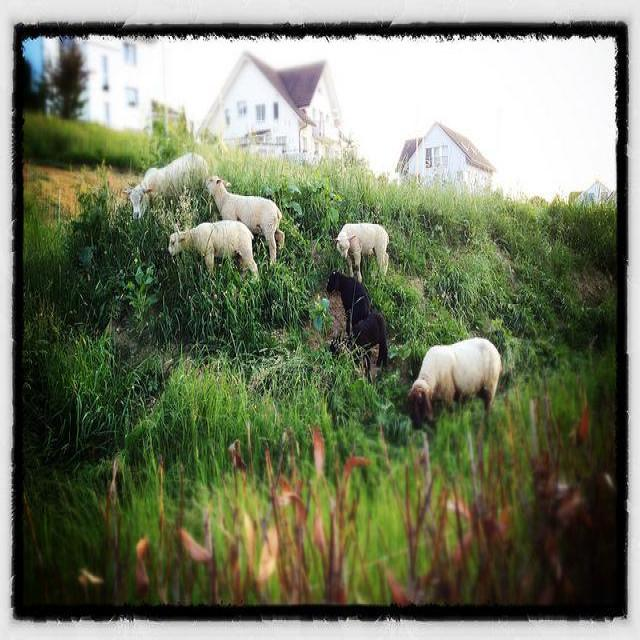Sheep: (408, 338, 501, 430), (204, 176, 286, 269), (126, 154, 210, 222), (168, 220, 260, 276), (331, 313, 388, 379), (332, 223, 391, 284), (327, 272, 370, 332)
